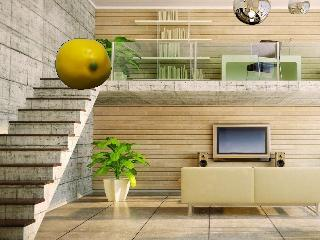lemon: (55, 39, 111, 91)
